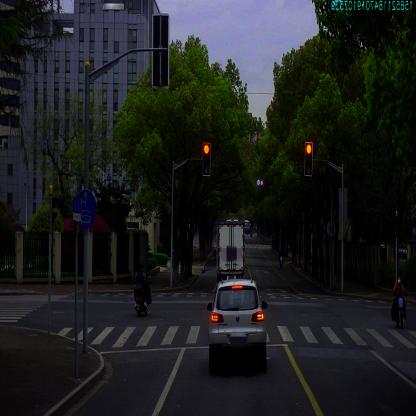traffic-light: (305, 143, 313, 175), (203, 144, 210, 175)
